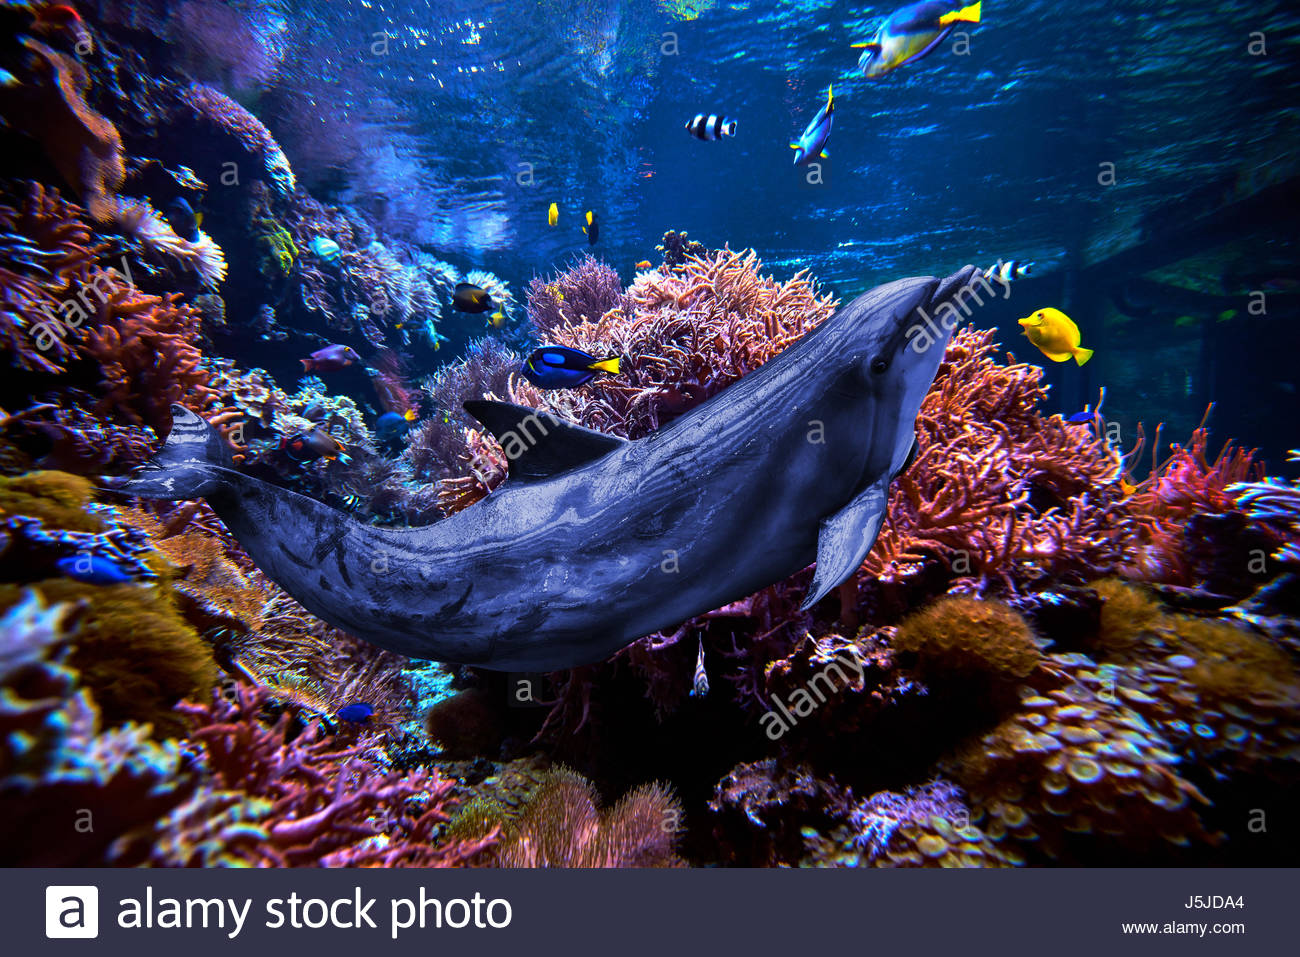dolphin: (170, 269, 1009, 647)
fish: (842, 7, 982, 75), (1009, 307, 1097, 374), (514, 344, 628, 389), (789, 93, 843, 171), (674, 105, 743, 146), (293, 343, 372, 371)
